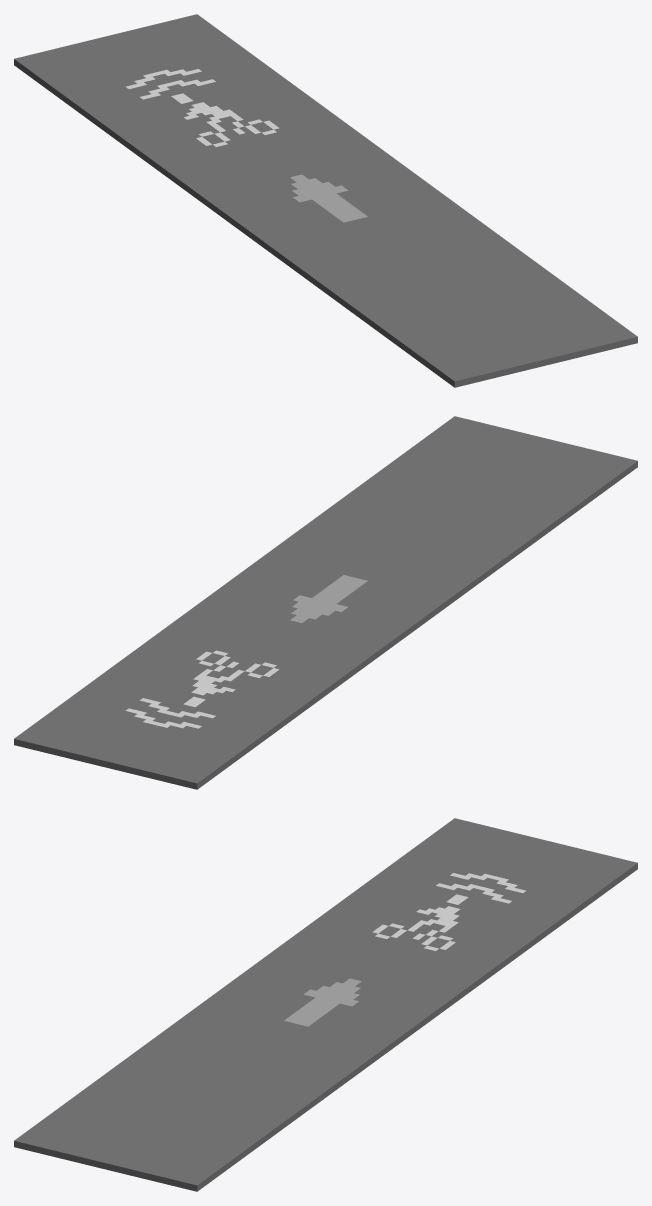
Rendered from drive-lane-sharrow.obj.
The picture shows the model from 3 angles, top to bottom: view 1: azimuth 30°, elevation 25°; view 2: azimuth 150°, elevation 25°; view 3: azimuth 330°, elevation 25°; orthographic projection.
Bounding box in the file's own units: 30 × 1 × 125.
